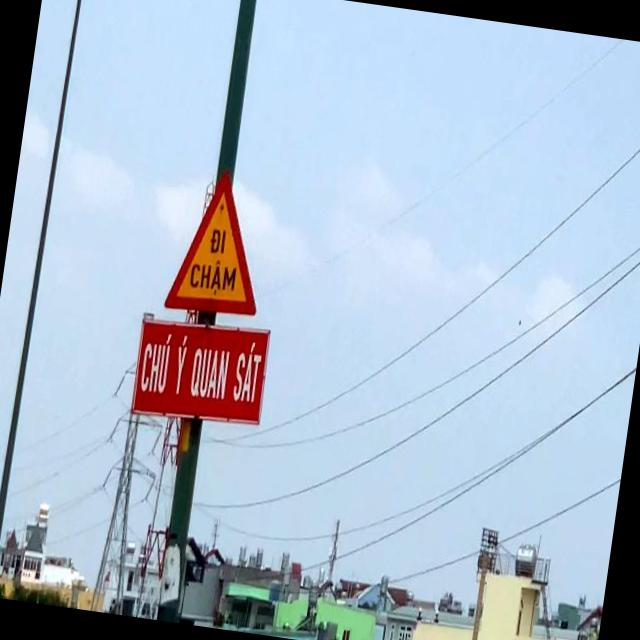W-245a: (164, 166, 277, 321)
